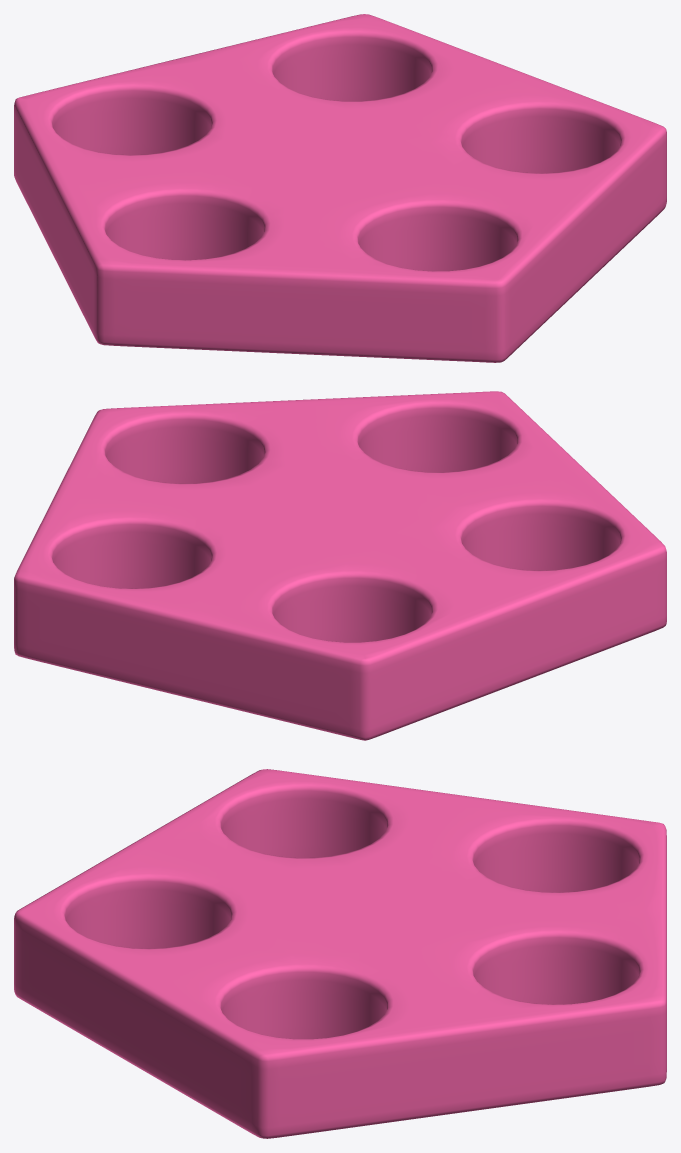
File: toy_pentagon.fbx
3 views of the same model, one above another, from view 1: azimuth 30°, elevation 25°; view 2: azimuth 150°, elevation 25°; view 3: azimuth 270°, elevation 25° (orthographic). The views are drawn at different scales.
Visible parts, largest first — view 1: Pentagon.001; view 2: Pentagon.001; view 3: Pentagon.001.
Part boxes in pixels (x1,y1,x2,y2): Pentagon.001: (14, 14, 666, 362); Pentagon.001: (14, 391, 666, 740); Pentagon.001: (14, 769, 666, 1138).
Size of the model in its own units: 4.8 by 0.6584 by 4.58.
